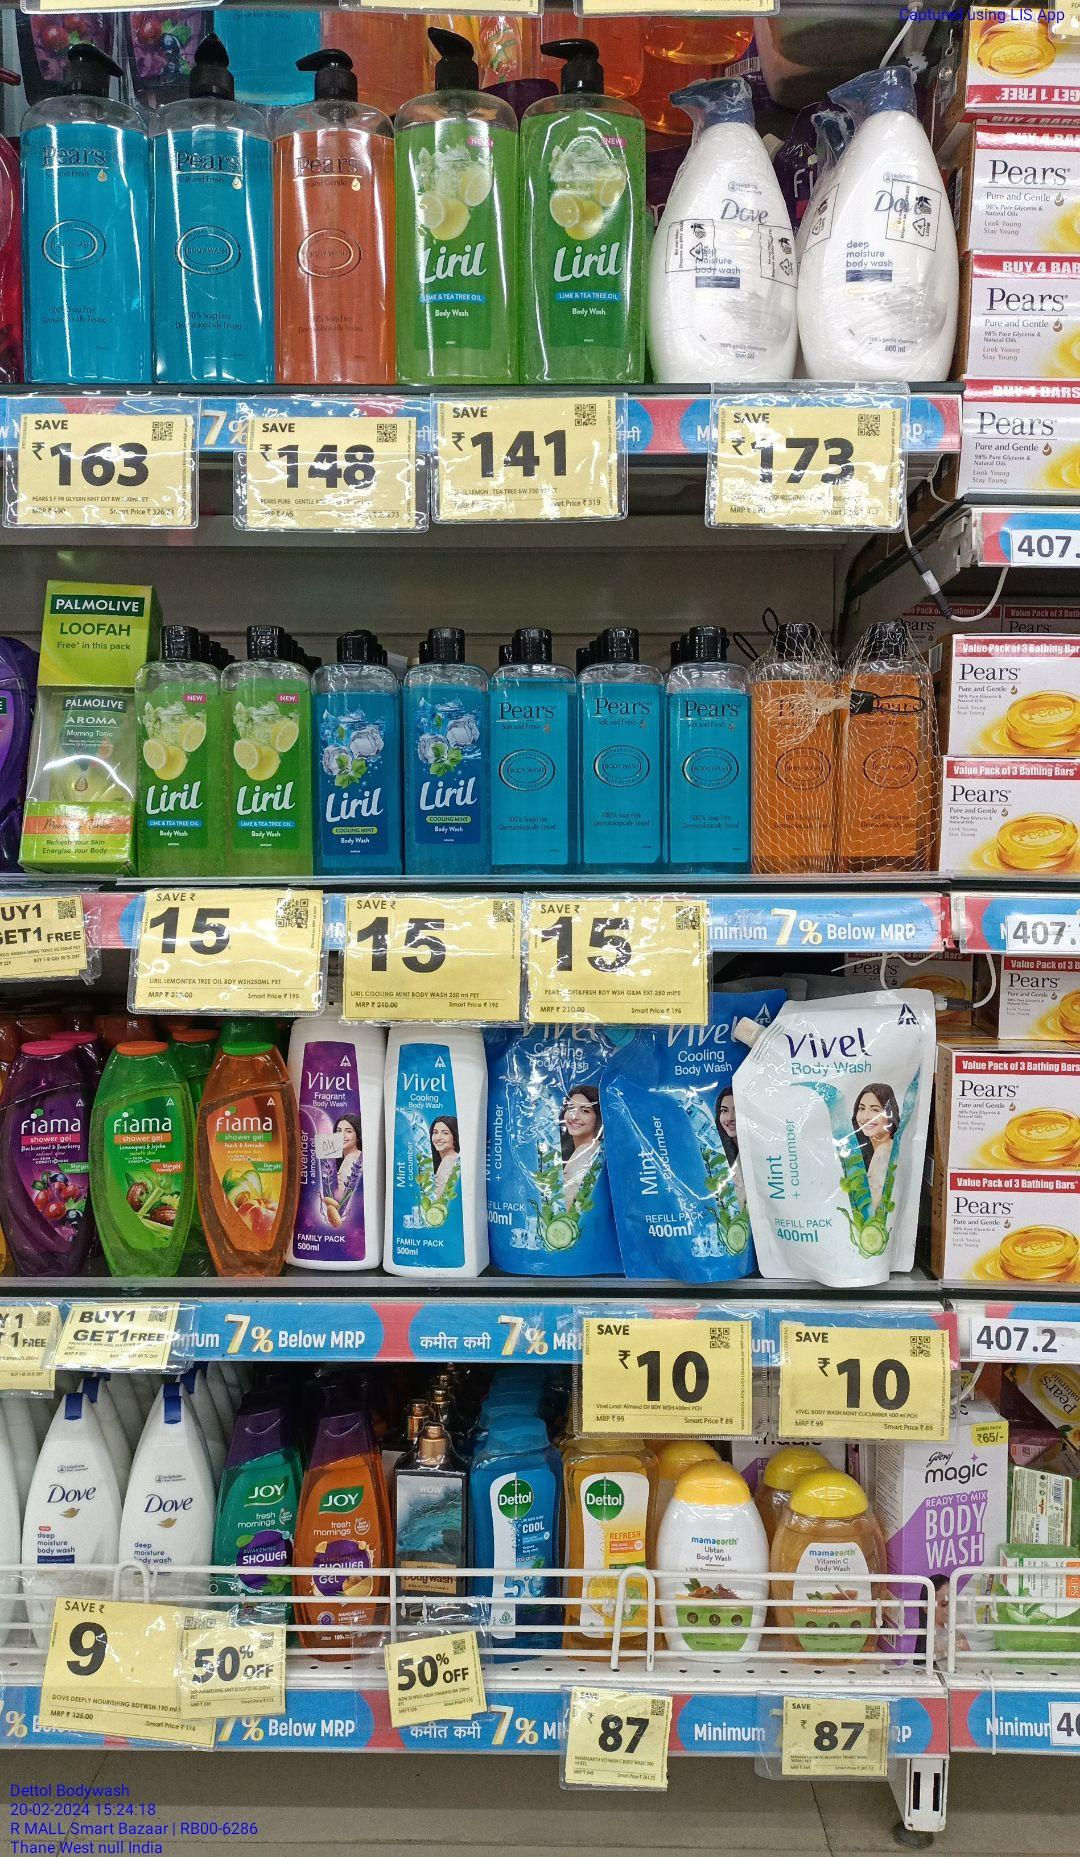Dettol_Bodywash_Cool: (477, 1430, 564, 1660)
Dettol_Bodywash_Refresh: (567, 1442, 661, 1660)
Dove_Deep_Moisture_Body_Wash_250ML: (120, 1392, 213, 1600), (24, 1399, 111, 1591)
Fiama_Shower_Gel_Lemongrass_and_Jojoba_250ML: (94, 1038, 190, 1277)
Fiama_Shower_Gel_Peach_and_Avocado_250ML: (197, 1035, 293, 1276)
Joy_Shower_Gel_Mandarin_and_Lemongrass_250ML: (300, 1419, 383, 1663)
Joy_Shower_Gel_Mint_and_Eucalyptus_250ML: (220, 1406, 296, 1610)
Liril_Cooling_Mint_Body_Wash_250ML: (318, 623, 405, 873), (413, 622, 489, 873)
Liril_Lime_and_Tea_Tree_Oil_Body_Wash_250ML: (221, 617, 312, 875), (138, 623, 216, 875)
Pears_Pure_Glycerin_and_Mint_Extracts_Body_Wash_250ML: (495, 619, 579, 875), (671, 625, 752, 869), (584, 631, 665, 869)
